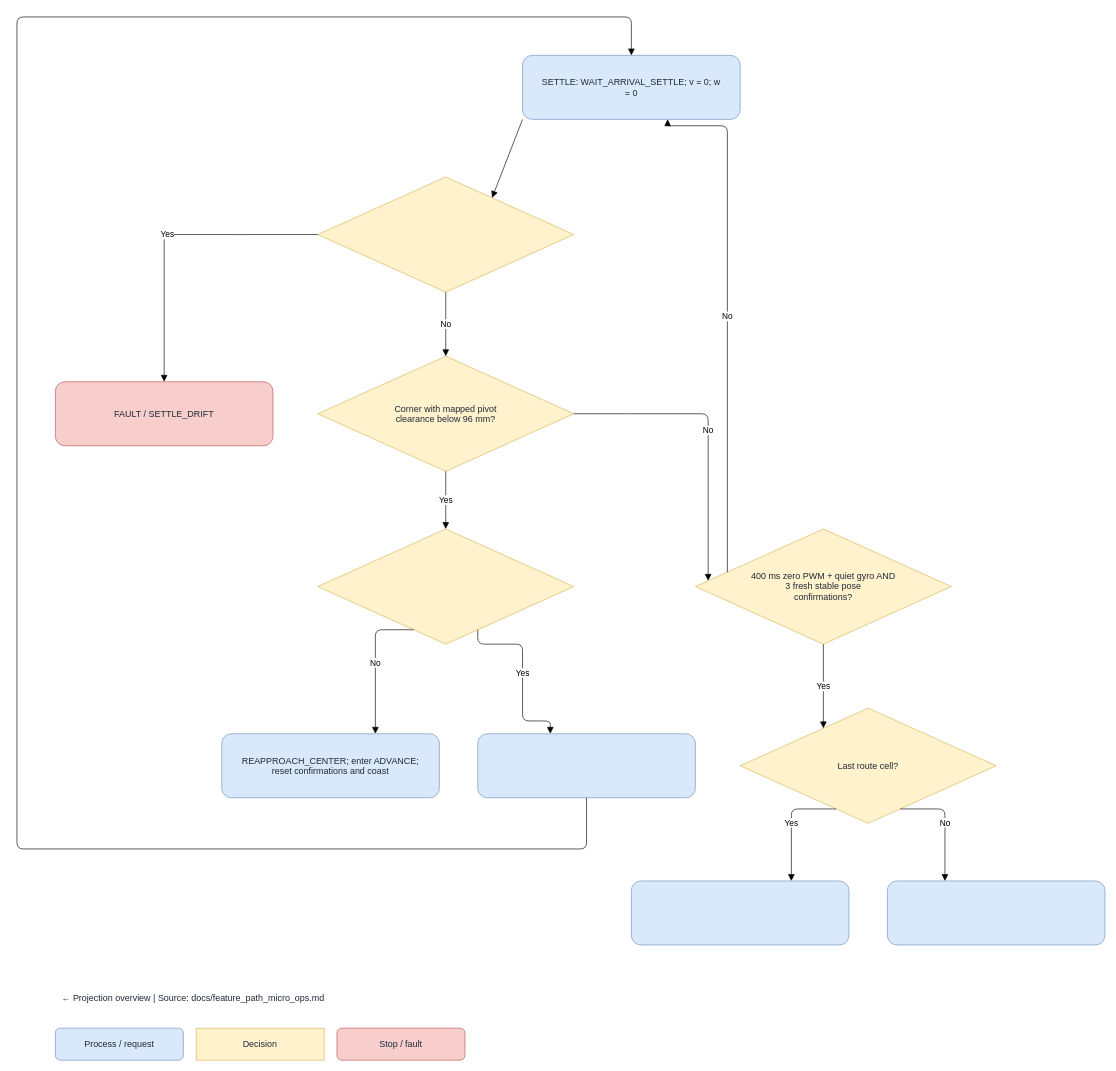
The diagram is 1116 pixels wide and 1071 high, and some of its shapes have lost their labels. Here are the shapes that lost their labels. From the top down, the centre of each, then its label:
pixel 445 234: Distance from target exceeds 50 mm?
pixel 445 586: Still within 10 mm arrival window?
pixel 586 765: Keep SETTLE stopped; reset pose confirmations; preserve coast evidence
pixel 740 912: ARRIVED; executor DONE; zero request
pixel 996 912: NEXT_WAYPOINT; select next landmark; enter TURN; start new leg deadline
